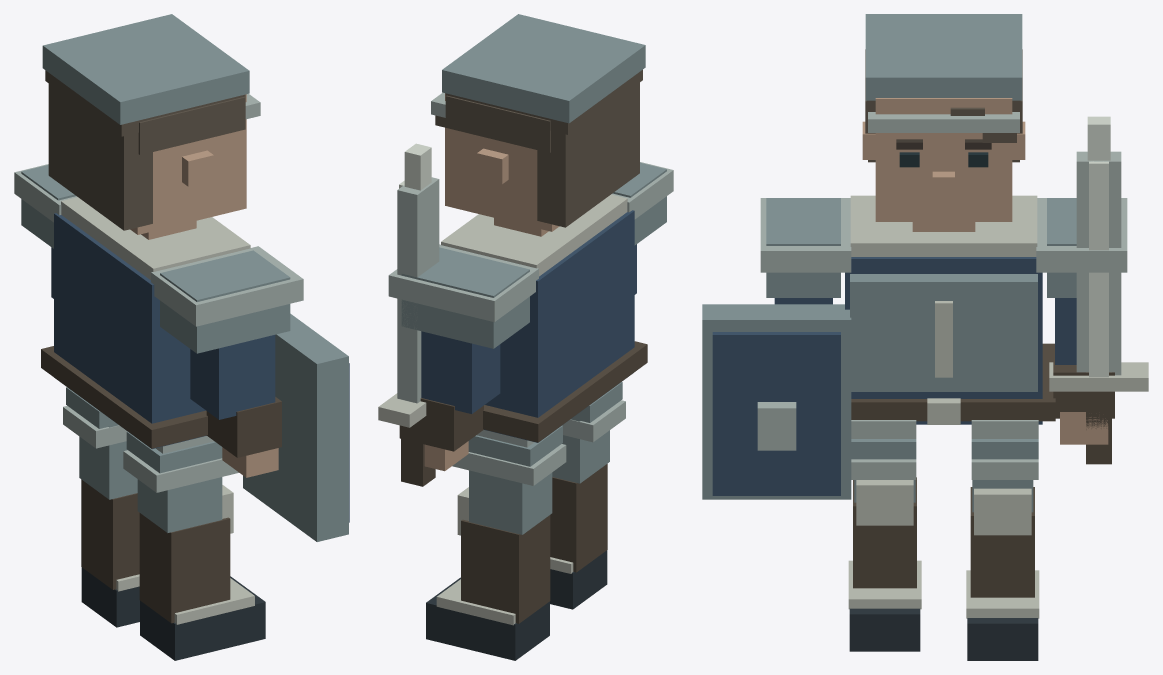
Rendered from enemy-humanoid-sword-male.glb.
3 renders of one model, left to right at view 1: azimuth 30°, elevation 25°; view 2: azimuth 150°, elevation 25°; view 3: azimuth 270°, elevation 25°, orthographic. The views are drawn at different scales.
Parts seen in each view (by area): view 1: Boots, Torso, Shield, Helmet, Hair, Shoulders, Head, Tassets, Legs, Collar, Sleeves, Pauldrons (+5 smaller); view 2: Boots, Torso, Helmet, Hair, Shoulders, Head, Tassets, Legs, SwordBlade, Collar, Sleeves, Pauldrons (+8 smaller); view 3: Breastplate, ShieldRim, Helmet, Boots, Head, Shield, Tassets, Shoulders, Collar, Pauldrons, Kneeguards, Torso (+17 smaller).
Part boxes in pixels (x1,y1,x2,y2): Boots: [81, 479, 265, 660]; Torso: [54, 213, 206, 448]; Shield: [243, 313, 348, 541]; Helmet: [42, 14, 260, 124]; Hair: [45, 70, 245, 230]; Shoulders: [21, 165, 290, 353]; Head: [130, 94, 246, 234]; Tassets: [63, 387, 238, 492]; Legs: [79, 424, 222, 532]; Collar: [61, 197, 250, 279]; Sleeves: [51, 247, 275, 419]; Pauldrons: [14, 164, 303, 326]; Boots: [426, 464, 607, 660]; Torso: [484, 210, 634, 442]; Helmet: [431, 14, 645, 123]; Hair: [435, 70, 642, 227]; Shoulders: [401, 162, 666, 348]; Head: [445, 93, 559, 231]; Tassets: [452, 382, 625, 485]; Legs: [469, 418, 609, 534]; SwordBlade: [397, 177, 439, 403]; Collar: [441, 194, 627, 276]; Sleeves: [421, 244, 636, 413]; Pauldrons: [388, 162, 673, 322]; Breastplate: [850, 274, 1037, 391]; ShieldRim: [712, 332, 840, 495]; Helmet: [865, 14, 1022, 132]; Boots: [849, 477, 1038, 660]; Head: [875, 98, 1012, 221]; Shield: [702, 304, 851, 499]; Tassets: [851, 420, 1038, 479]; Shoulders: [766, 198, 1076, 297]; Collar: [850, 195, 1037, 256]; Pauldrons: [760, 198, 1127, 272]; Kneeguards: [856, 480, 1031, 535]; Torso: [845, 257, 1042, 424].
Bounding box in the file's own units: 2.6 × 8.57 × 5.98.
